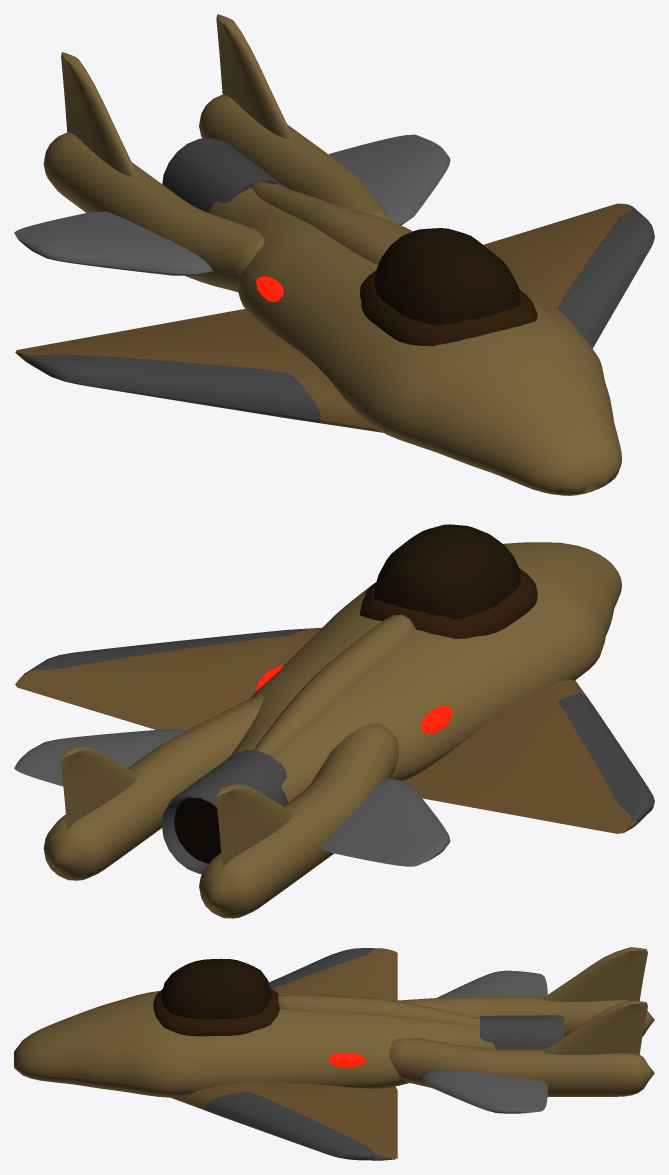
File: jet_brown.glb
3 views of the same model, one above another, from view 1: azimuth 30°, elevation 25°; view 2: azimuth 150°, elevation 25°; view 3: azimuth 270°, elevation 25° (orthographic). The views are drawn at different scales.
Visible parts, largest first — view 1: fuselage, wing_l, wing_r, boom_l, canopy, boom_r, tail_l, tail_r, nozzle, frame, bfin_r, bfin_l (+1 smaller); view 2: fuselage, wing_l, wing_r, boom_l, boom_r, canopy, tail_l, spine, nozzle, frame, tail_r, bfin_l (+3 smaller); view 3: fuselage, wing_r, boom_r, canopy, wing_l, tail_r, boom_l, bfin_r, bfin_l, spine, nozzle, frame (+2 smaller).
Part boxes in pixels (x1,y1,x2,y2): fuselage: (209, 184, 621, 495); wing_l: (15, 309, 383, 432); wing_r: (483, 203, 654, 348); boom_l: (43, 132, 264, 292); canopy: (374, 228, 520, 325); boom_r: (199, 94, 391, 221); tail_l: (14, 211, 212, 275); tail_r: (329, 134, 450, 225); nozzle: (162, 138, 285, 212); frame: (359, 270, 537, 346); bfin_r: (216, 14, 293, 139); bfin_l: (61, 52, 137, 177); fuselage: (225, 542, 621, 803); wing_l: (403, 679, 654, 833); wing_r: (15, 627, 321, 729); boom_l: (199, 723, 398, 918); boom_r: (43, 695, 264, 880); canopy: (374, 524, 520, 619); tail_l: (320, 777, 450, 866); spine: (254, 614, 415, 755); nozzle: (161, 750, 286, 874); frame: (359, 568, 537, 638); tail_r: (14, 729, 187, 786); bfin_l: (216, 784, 293, 867); fuselage: (14, 991, 494, 1097); wing_r: (171, 1082, 397, 1160); boom_r: (389, 1038, 654, 1096); canopy: (161, 958, 271, 1019); wing_l: (268, 948, 397, 1000); tail_r: (421, 1070, 547, 1113); boom_l: (394, 996, 654, 1036); bfin_r: (542, 1000, 647, 1055); bfin_l: (542, 947, 647, 1001); spine: (278, 994, 479, 1025); nozzle: (480, 1015, 564, 1049); frame: (153, 988, 279, 1036).
Bounding box in the file's own units: 19.62 × 5.09 × 25.48.
